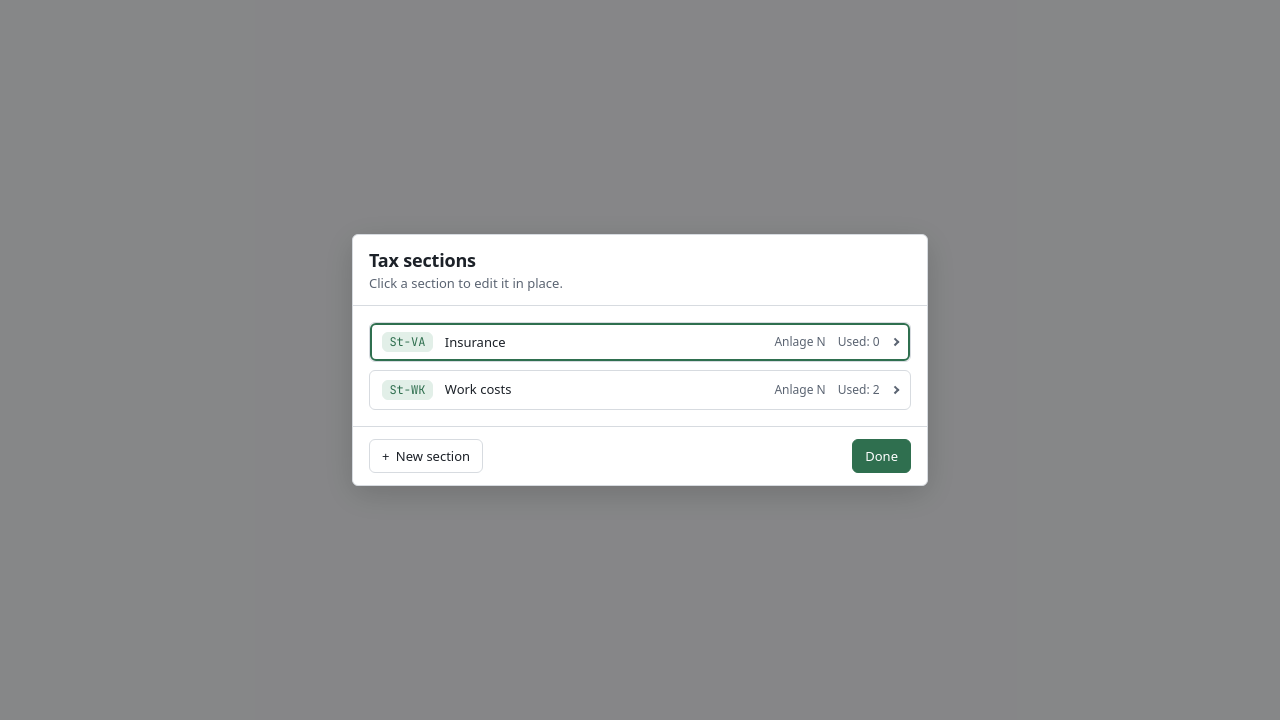
Test: TaxSectionDialogComponent › validates the code: pattern, St-0 and codes already taken
Click the button with class "tax-sections__head" that starts with "St-VA": (407, 342) [370,324,910,361]
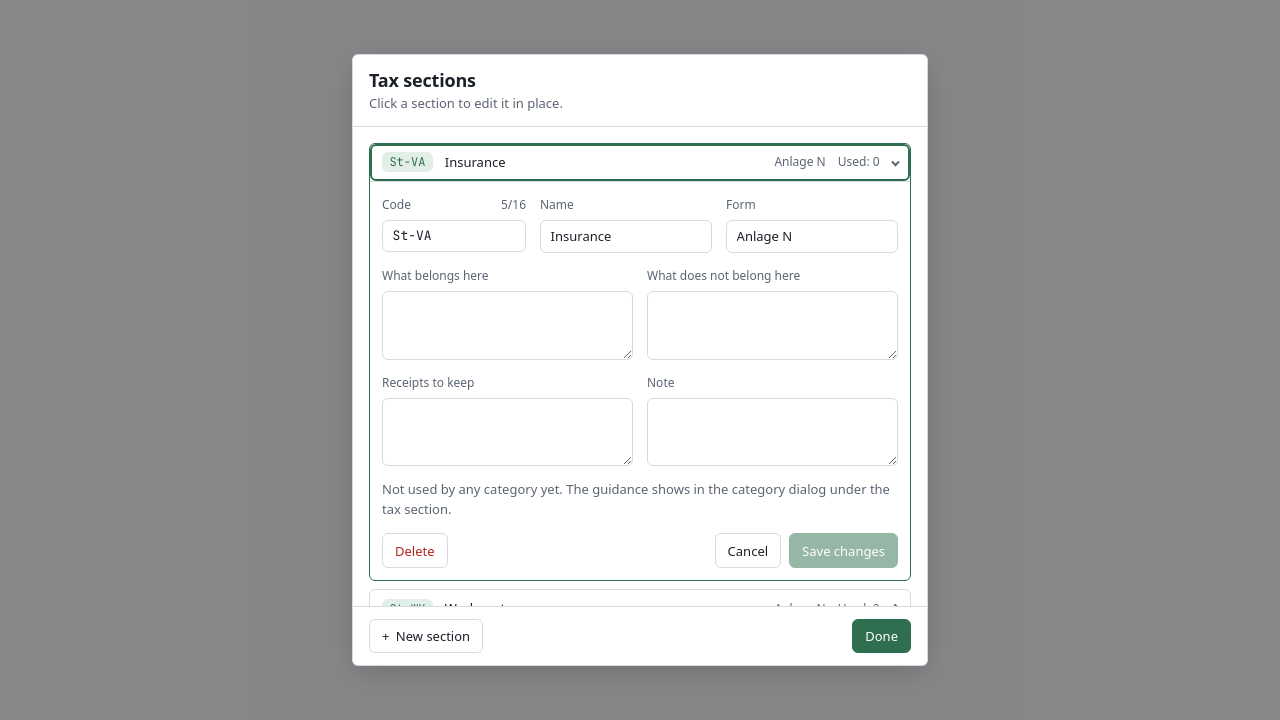
Replace the text in the field labelled "Code 5/16" with "St 1": (454, 236) [382,220,526,252]
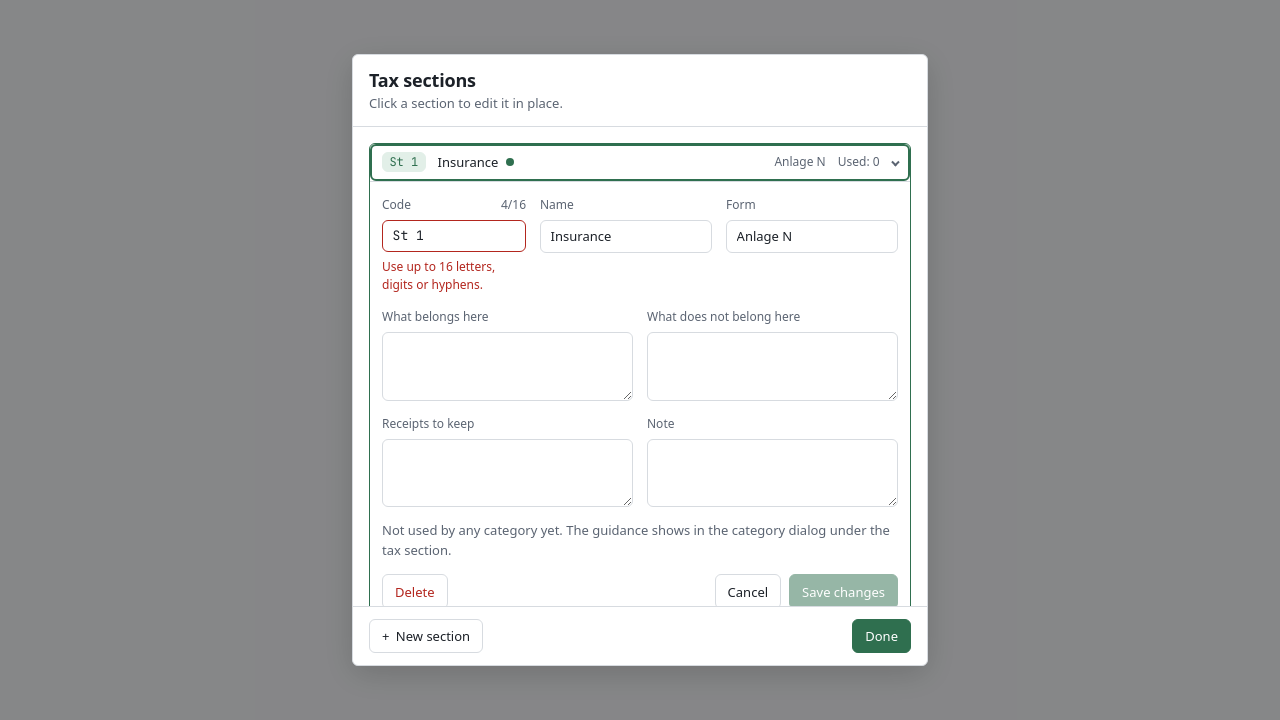
Now the element that starts with "Tax sections" shows "Use up to 16 letters, digits or hyphens.", box [382,258,495,293]
Replace the text in the field labelled "Code 4/16" with "St-0": (454, 236) [382,220,526,252]
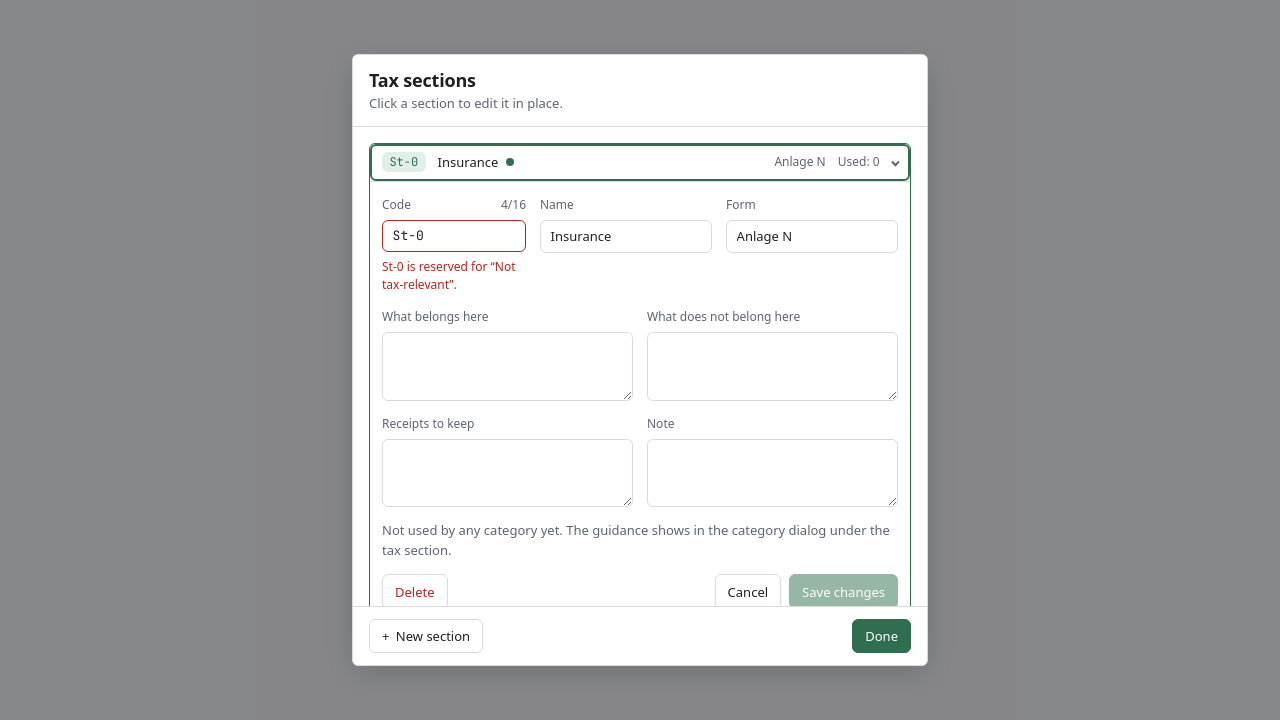
Now the element that starts with "Tax sections" shows "St-0 is reserved", box [382,258,516,293]
Replace the text in the field labelled "Code 4/16" with "St-WK": (454, 236) [382,220,526,252]
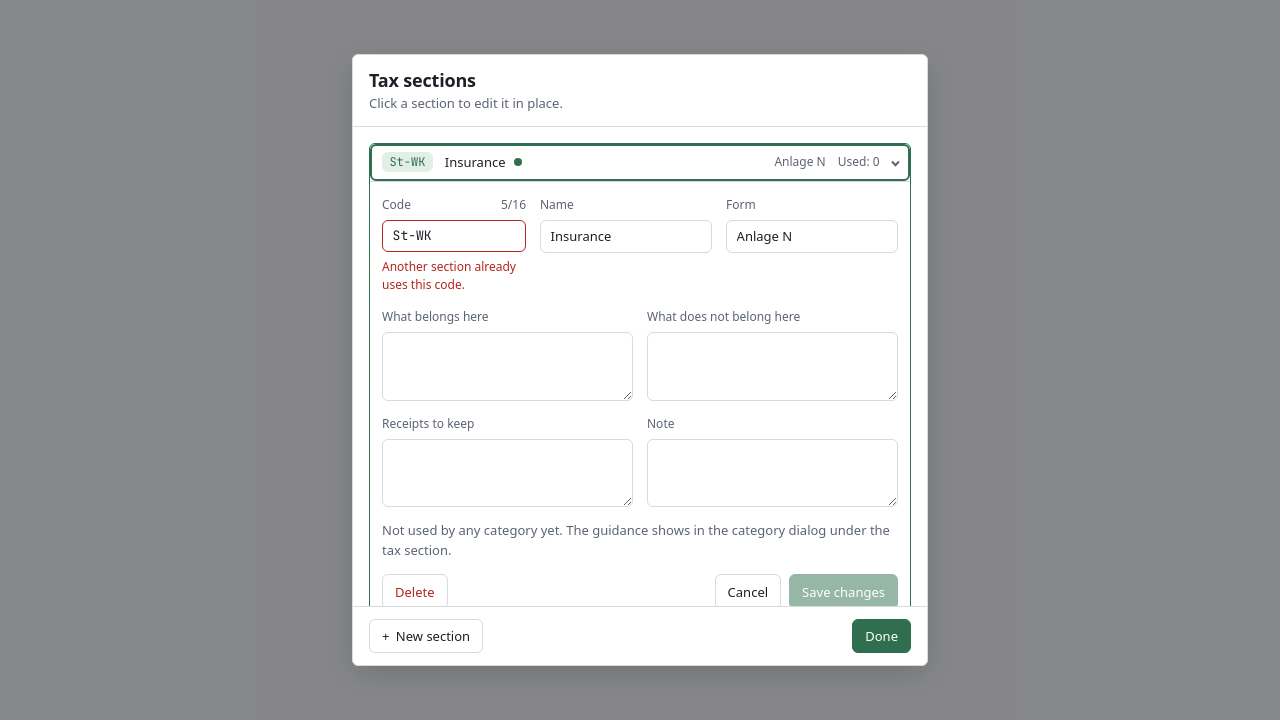
Now the button "Save changes" is disabled, box [789,574,898,606]
Now the element that starts with "Tax sections" shows "Another section already uses this code.", box [382,258,516,293]
Replace the text in the field labelled "Code 5/16" with "St-VS": (454, 236) [382,220,526,252]
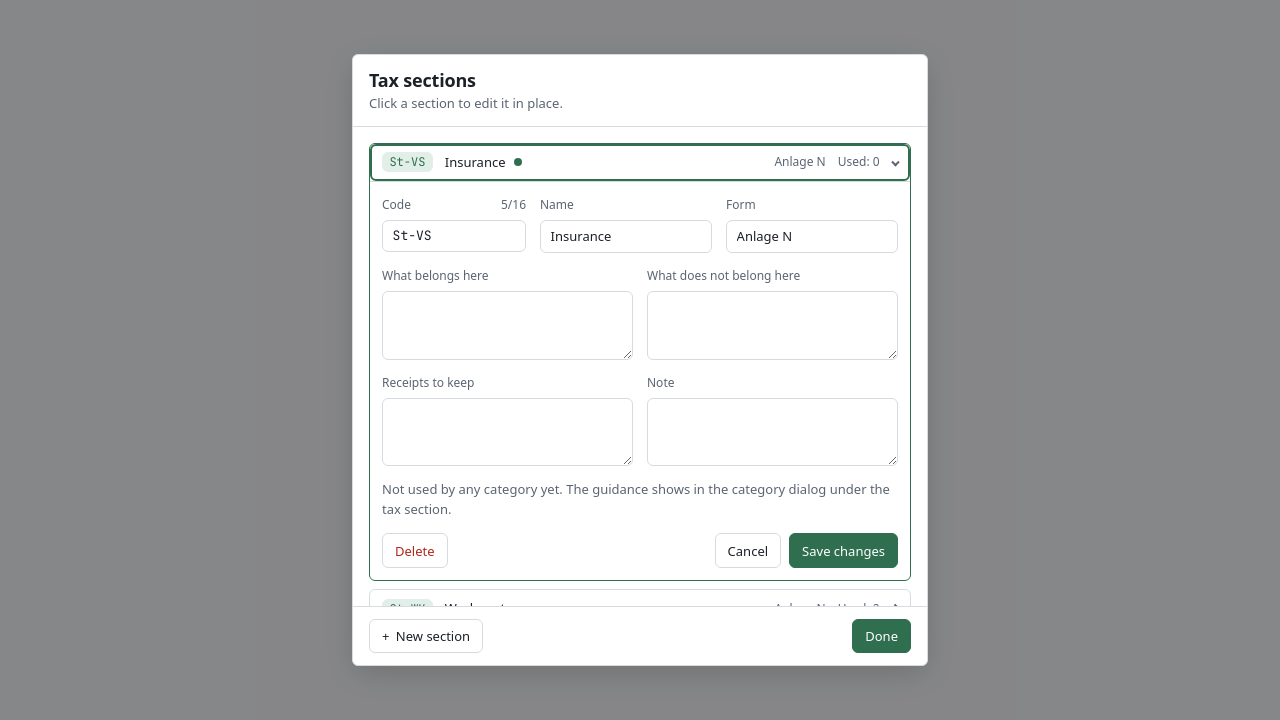
Now the button "Save changes" is enabled, box [789,533,898,568]
